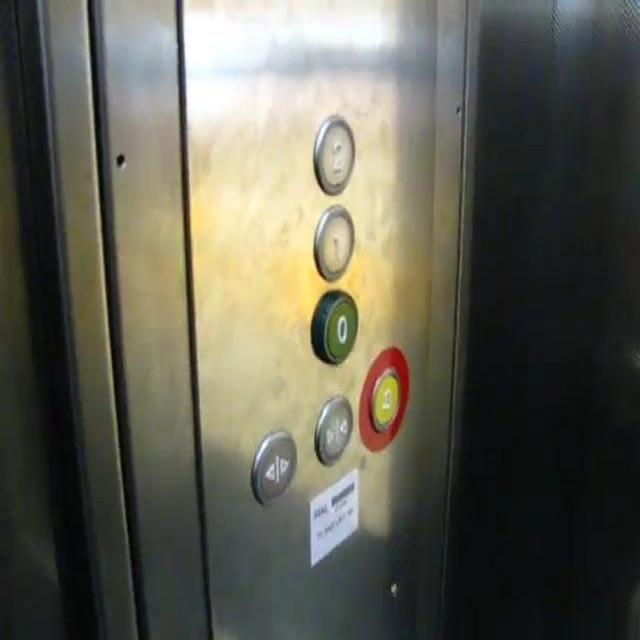0: (309, 287, 359, 368)
1: (313, 200, 354, 281)
2: (311, 110, 358, 194)
alarm: (366, 364, 403, 436)
close: (313, 393, 352, 468)
open: (244, 425, 296, 508)
